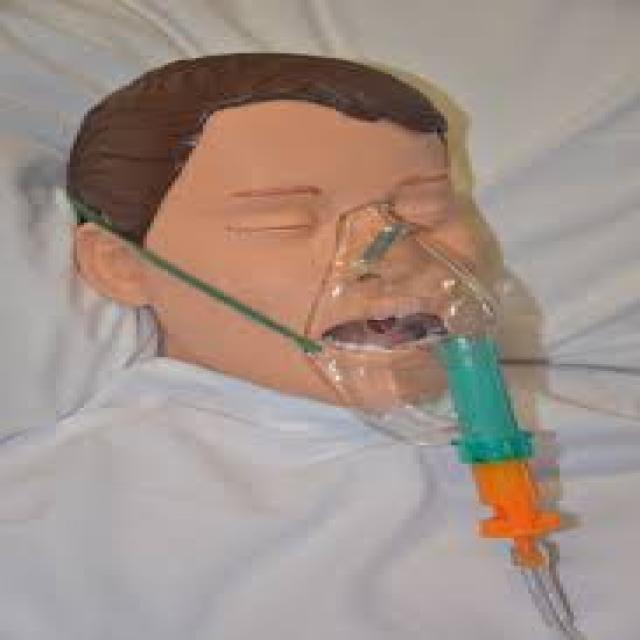oxygen_mask: (320, 209, 574, 604)
